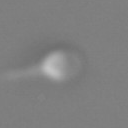normal: (1, 63, 43, 93)
